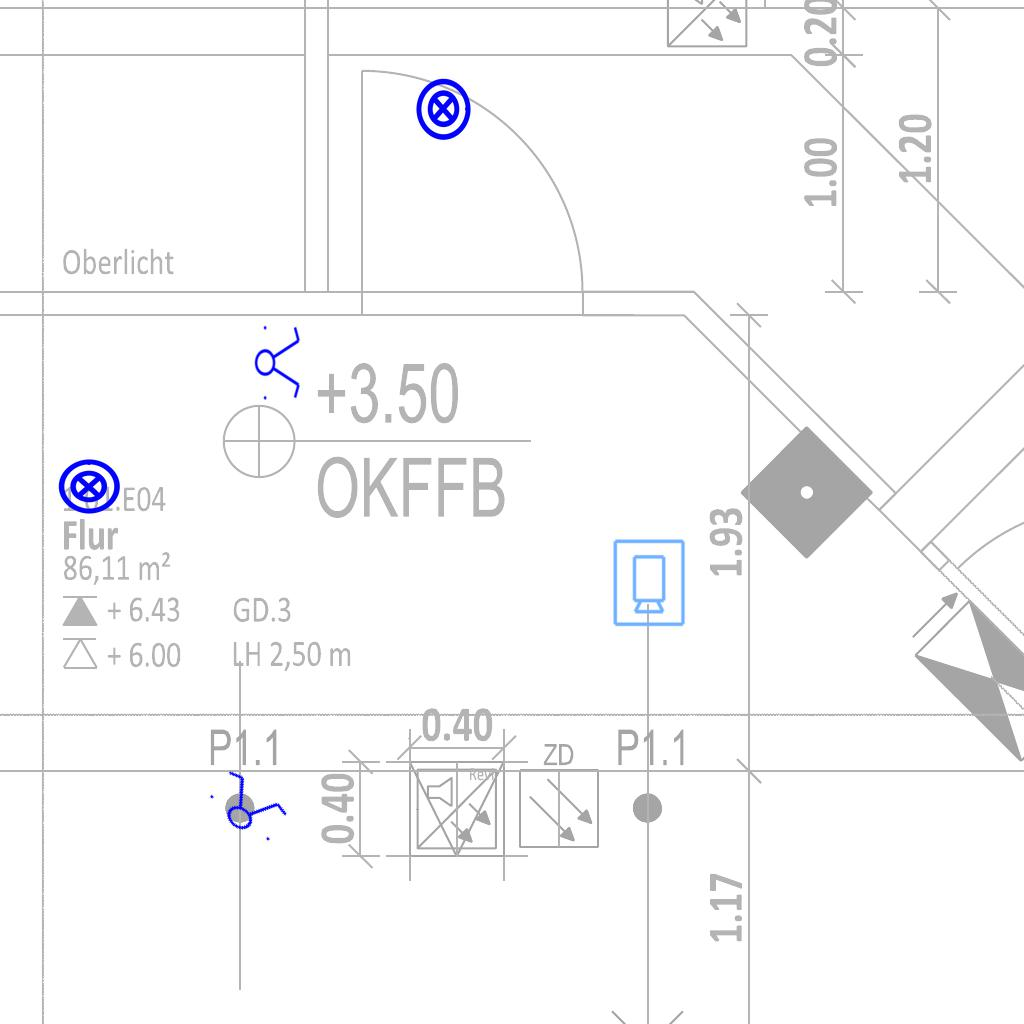KFO_Kamera_mit_Festobjektiv: (610, 537, 687, 628)
Serienschalter: (199, 762, 295, 852), (254, 320, 302, 404)
Taster_beleuchtet: (410, 76, 476, 142), (56, 454, 122, 520)
